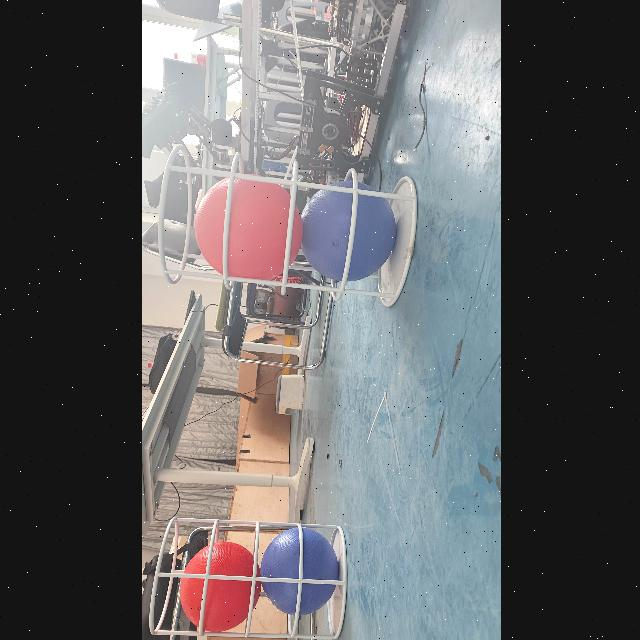B: (296, 176, 394, 282), (261, 526, 339, 616)
R: (192, 173, 302, 284), (178, 540, 260, 632)
S: (151, 139, 421, 309), (144, 512, 348, 640)
